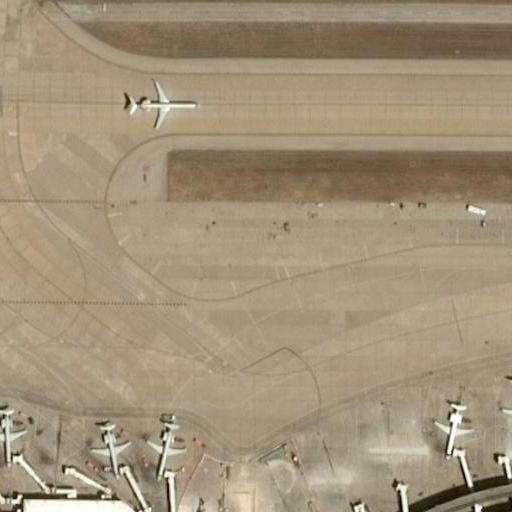Aircraft: (113, 77, 197, 124), (425, 395, 480, 455), (142, 411, 190, 474), (90, 416, 131, 476), (0, 401, 34, 461), (502, 371, 512, 440)
